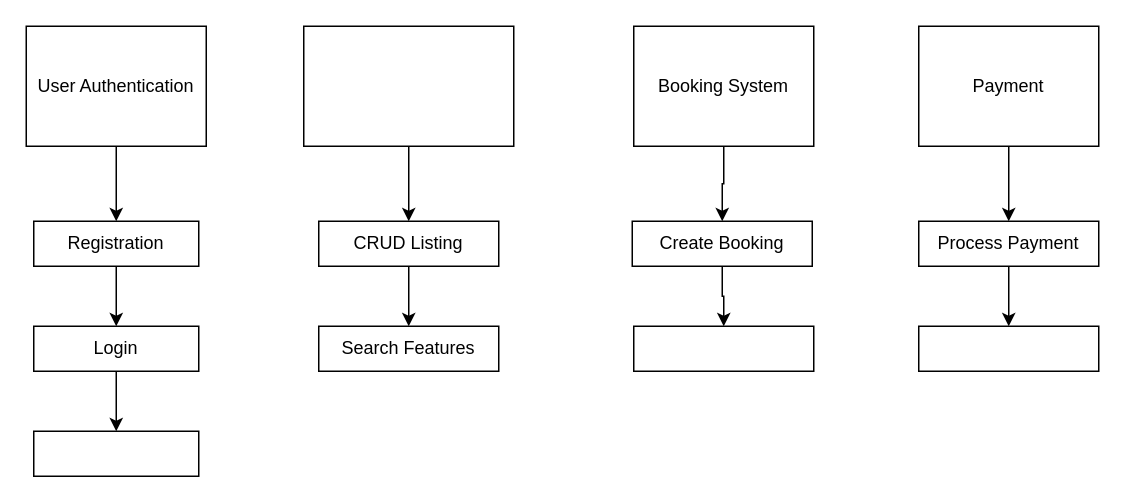
Image size: 1125x503. Some labels were removed from this diagram. The centre of each missing label's shape, as x and y in pixels:
Handle Payment: [1008,348]
Manage Booking: [723,348]
Profile Management: [115,453]
Property Management: [408,85]
